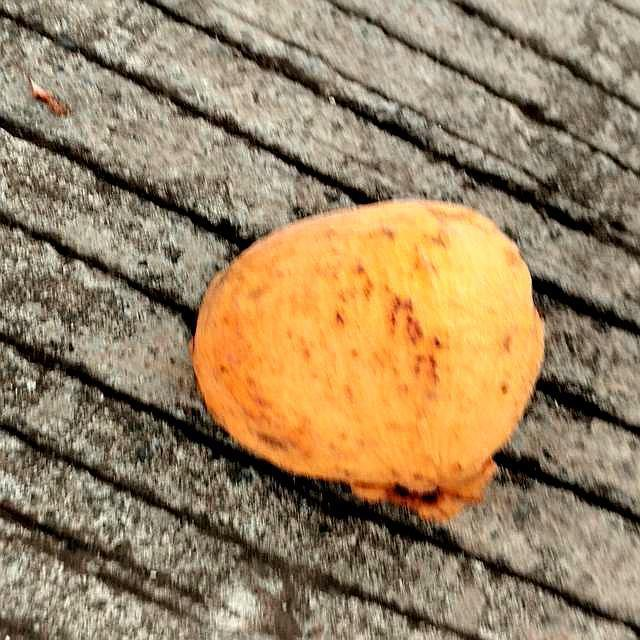Biodegradable: (191, 203, 551, 523)
